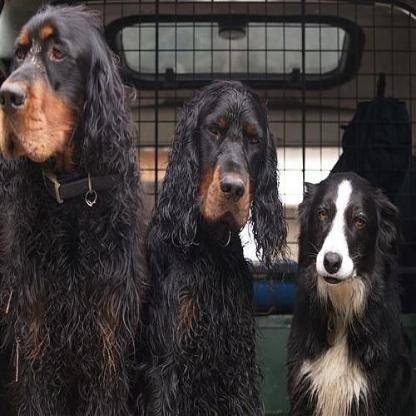Gordon_setter: (0, 1, 141, 414), (146, 72, 291, 414), (290, 173, 414, 414)
